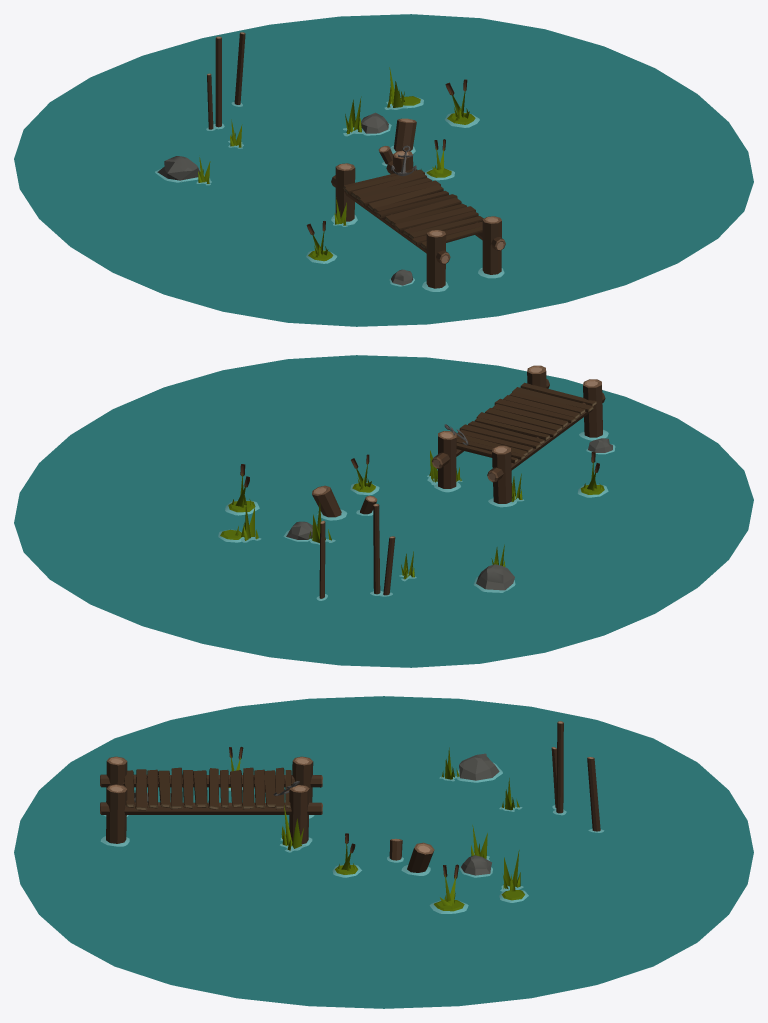
The model's file is Sea Slize MDL.fbx.
3 views of the same model, one above another, from view 1: azimuth 30°, elevation 25°; view 2: azimuth 150°, elevation 25°; view 3: azimuth 270°, elevation 25° (orthographic). The views are drawn at different scales.
Parts seen in each view (by area): view 1: polySurface91; view 2: polySurface91; view 3: polySurface91.
Boxes of the visible parts, x1,y1,x2,y2 form: polySurface91: (14,14,753,326); polySurface91: (14,355,753,667); polySurface91: (14,696,753,1008).
Size of the model in its own units: 145 by 19.69 by 145.
